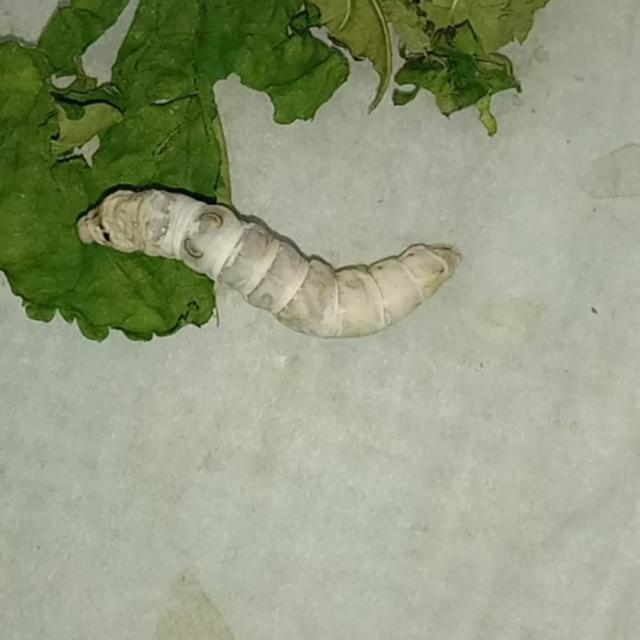Grasserie: (65, 163, 466, 351)
